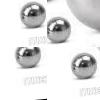ironball: (64, 0, 99, 33), (20, 2, 46, 27), (70, 53, 96, 78), (14, 46, 41, 69), (48, 17, 72, 41)
